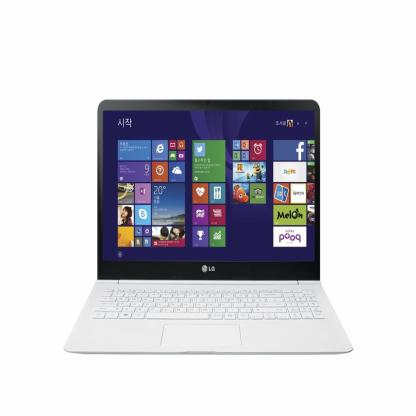board: (64, 98, 353, 357)
